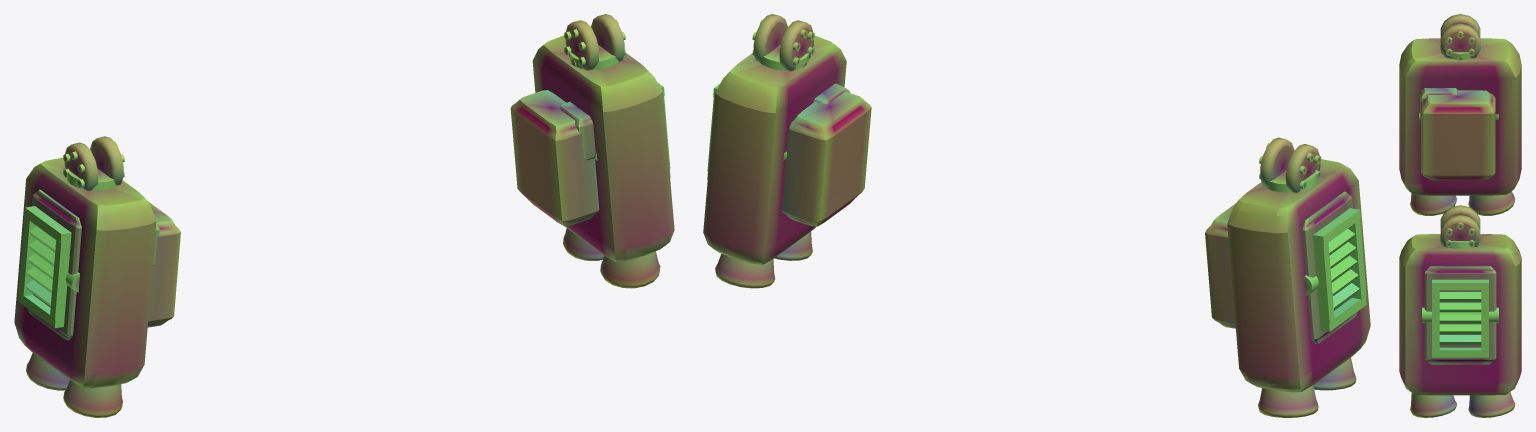
Rendered from llm_gen_leg_thrusters_089_154b3b.glb.
The picture shows the model from 3 angles, left to right: view 1: azimuth 30°, elevation 25°; view 2: azimuth 150°, elevation 25°; view 3: azimuth 270°, elevation 25°; orthographic projection. The views are drawn at different scales.
Parts seen in each view (by area): view 1: flare_cowling_main_0_adapter_dark_l, flare_cowling_main_0_adapter_dark_r, adapter_calf_clamp_r, adapter_sub_flare_louver_gold_3_dark_l, adapter_calf_clamp_l, adapter_sub_louver_frame_dark_1_adapter_dark_l, servo_5_servo_accent_r, servo_5_servo_accent_l, flare_bell_fwd_6_vernier_bell_vernier_l, flare_louver_gold_3_gold_l, flare_bell_fwd_6_vernier_bell_vernier_r, flare_bell_aft_7_vernier_bell_vernier_l (+2 smaller); view 2: flare_cowling_main_0_adapter_dark_l, flare_cowling_main_0_adapter_dark_r, adapter_calf_clamp_r, adapter_sub_flare_louver_gold_3_dark_l, adapter_calf_clamp_l, adapter_sub_louver_frame_dark_1_adapter_dark_l, servo_5_servo_accent_r, servo_5_servo_accent_l, flare_louver_gold_3_gold_l, flare_bell_aft_7_vernier_bell_vernier_l, flare_bell_aft_7_vernier_bell_vernier_r, flare_bell_fwd_6_vernier_bell_vernier_l (+1 smaller); view 3: flare_cowling_main_0_adapter_dark_r, flare_cowling_main_0_adapter_dark_l, adapter_calf_clamp_l, adapter_sub_louver_frame_dark_1_adapter_dark_r, adapter_sub_flare_louver_gold_3_dark_r, flare_louver_gold_3_gold_r, servo_5_servo_accent_l, servo_5_servo_accent_r, flare_bell_aft_7_vernier_bell_vernier_r, flare_bell_fwd_6_vernier_bell_vernier_r, flare_bell_aft_7_vernier_bell_vernier_l, flare_bell_fwd_6_vernier_bell_vernier_l (+6 smaller).
Part boxes in pixels (<box>): flare_cowling_main_0_adapter_dark_l: <box>14,157,156,388</box>; flare_cowling_main_0_adapter_dark_r: <box>532,35,674,262</box>; adapter_calf_clamp_r: <box>510,90,599,226</box>; adapter_sub_flare_louver_gold_3_dark_l: <box>18,206,71,328</box>; adapter_calf_clamp_l: <box>147,201,180,327</box>; adapter_sub_louver_frame_dark_1_adapter_dark_l: <box>27,189,81,340</box>; servo_5_servo_accent_r: <box>565,14,624,70</box>; servo_5_servo_accent_l: <box>64,136,123,190</box>; flare_bell_fwd_6_vernier_bell_vernier_l: <box>63,380,122,417</box>; flare_louver_gold_3_gold_l: <box>25,226,56,306</box>; flare_bell_fwd_6_vernier_bell_vernier_r: <box>600,251,660,288</box>; flare_bell_aft_7_vernier_bell_vernier_l: <box>26,353,69,390</box>; flare_cowling_main_0_adapter_dark_l: <box>1227,159,1370,392</box>; flare_cowling_main_0_adapter_dark_r: <box>703,35,846,264</box>; adapter_calf_clamp_r: <box>782,91,871,226</box>; adapter_sub_flare_louver_gold_3_dark_l: <box>1313,208,1366,331</box>; adapter_calf_clamp_l: <box>1205,203,1235,328</box>; adapter_sub_louver_frame_dark_1_adapter_dark_l: <box>1302,191,1357,343</box>; servo_5_servo_accent_r: <box>753,14,813,71</box>; servo_5_servo_accent_l: <box>1260,137,1320,192</box>; flare_louver_gold_3_gold_l: <box>1328,228,1359,309</box>; flare_bell_aft_7_vernier_bell_vernier_l: <box>1258,385,1318,417</box>; flare_bell_aft_7_vernier_bell_vernier_r: <box>715,253,775,288</box>; flare_bell_fwd_6_vernier_bell_vernier_l: <box>1313,357,1356,390</box>; flare_cowling_main_0_adapter_dark_r: <box>1399,234,1521,395</box>; flare_cowling_main_0_adapter_dark_l: <box>1399,38,1521,195</box>; adapter_calf_clamp_l: <box>1421,90,1495,180</box>; adapter_sub_louver_frame_dark_1_adapter_dark_r: <box>1424,266,1496,364</box>; adapter_sub_flare_louver_gold_3_dark_r: <box>1432,279,1488,357</box>; flare_louver_gold_3_gold_r: <box>1439,292,1481,344</box>; servo_5_servo_accent_l: <box>1440,14,1480,58</box>; servo_5_servo_accent_r: <box>1440,205,1480,246</box>; flare_bell_aft_7_vernier_bell_vernier_r: <box>1468,392,1515,417</box>; flare_bell_fwd_6_vernier_bell_vernier_r: <box>1410,393,1456,417</box>; flare_bell_aft_7_vernier_bell_vernier_l: <box>1468,191,1515,215</box>; flare_bell_fwd_6_vernier_bell_vernier_l: <box>1410,193,1456,215</box>.
Bounding box in the file's own units: 82 × 31.62 × 18.
